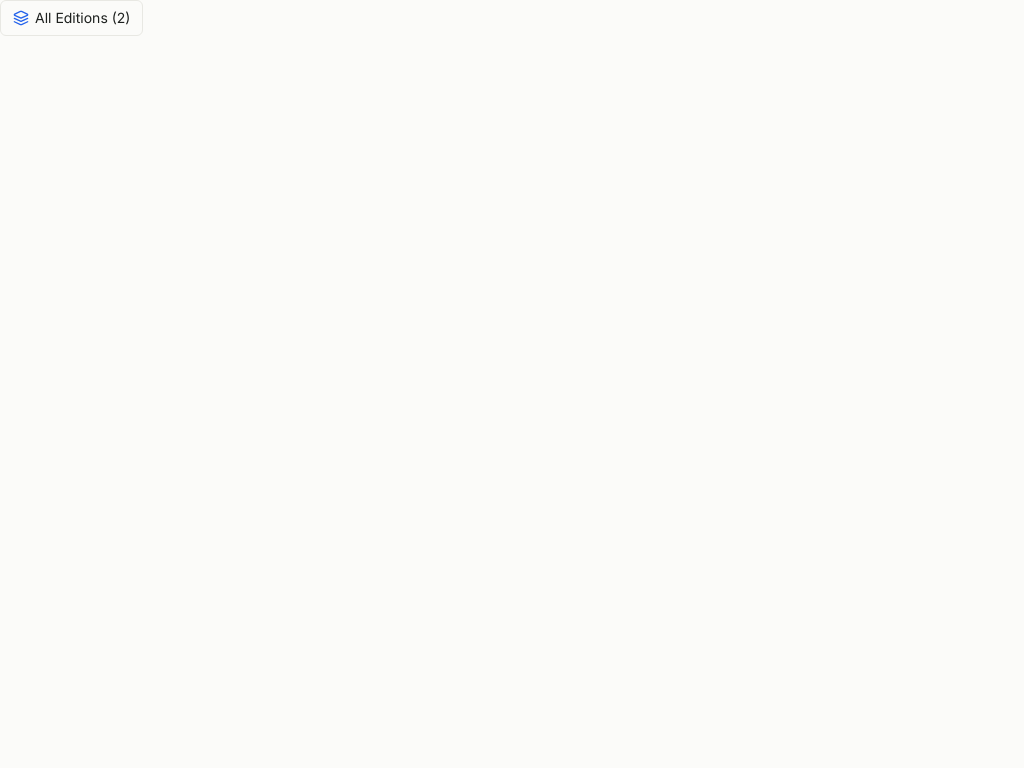
Test case: BookEditionPicker › opens dialog with active edition metadata and reading history preservation notice
# Click to open dialog
Click the button with aria-label "all 2 editions" at (72, 18), box [0, 0, 144, 36]
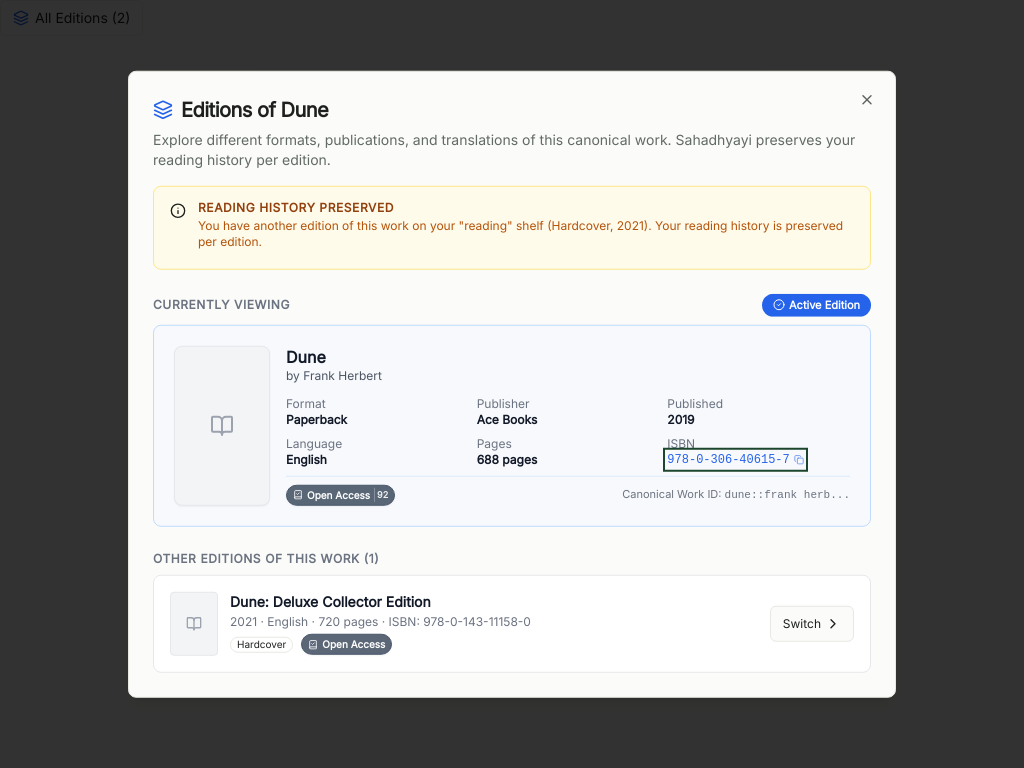
expect the text "Editions of Dune" is shown: met, box [181, 96, 328, 124]
expect the heading "Reading History Preserved" is shown: met, box [198, 200, 394, 215]
expect the text "You have another edition of this work" is shown: met, box [198, 218, 843, 249]
